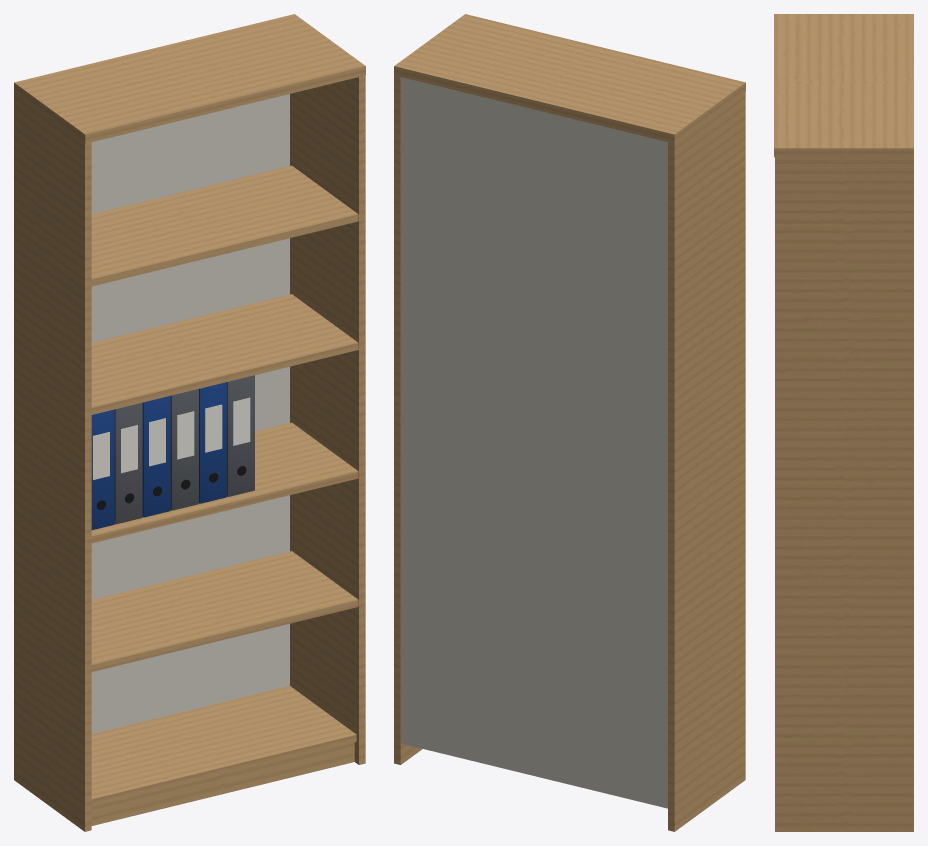
Rendered from tall-cabinet.glb.
3 renders of one model, left to right at view 1: azimuth 30°, elevation 25°; view 2: azimuth 150°, elevation 25°; view 3: azimuth 270°, elevation 25°, orthographic. The views are drawn at different scales.
Parts seen in each view (by area): view 1: Bookcase carcass and shelves, Bookcase back panel, Lever-arch file 2, Lever-arch file 1, Spine label 1; view 2: Bookcase back panel, Bookcase carcass and shelves; view 3: Bookcase carcass and shelves.
Boxes of the visible parts, x1,y1,x2,y2 form: Bookcase carcass and shelves: (14,14,365,831); Bookcase back panel: (91,94,289,733); Lever-arch file 2: (114,375,254,524); Lever-arch file 1: (91,382,226,529); Spine label 1: (92,397,250,479); Bookcase back panel: (401,77,667,808); Bookcase carcass and shelves: (394,14,745,831); Bookcase carcass and shelves: (774,14,913,831).
Size of the model in its own units: 0.8 by 1.9 by 0.3519.
Materials: 6 (1 with a texture image).
